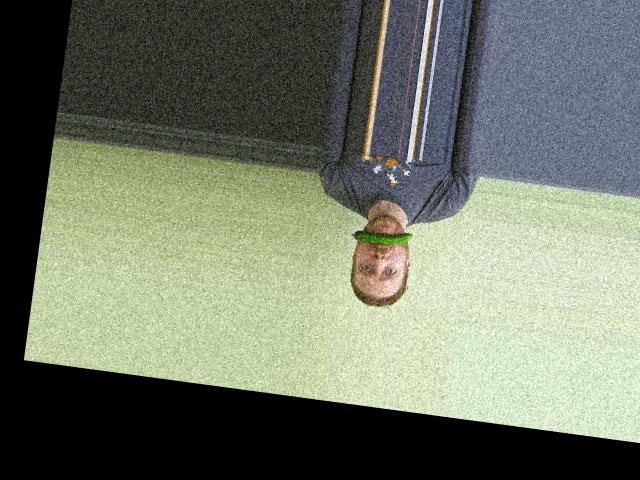cucumber: (350, 225, 413, 248)
